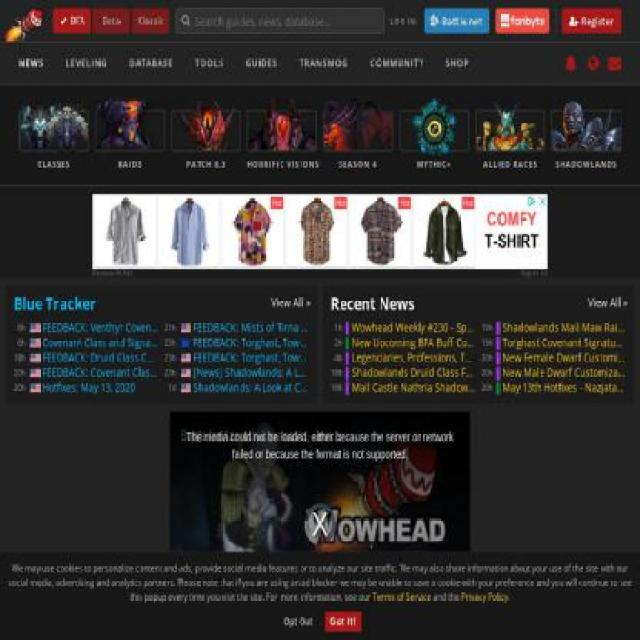button: (92, 194, 548, 269), (94, 109, 166, 177), (170, 109, 242, 177), (474, 109, 546, 177), (550, 109, 622, 177), (19, 109, 90, 177), (246, 109, 317, 177), (323, 109, 394, 177), (398, 109, 469, 177), (358, 42, 436, 84), (287, 42, 361, 84), (117, 42, 186, 84), (53, 42, 121, 84), (233, 42, 290, 84), (182, 42, 236, 84), (6, 42, 57, 84), (434, 42, 481, 84), (180, 320, 309, 335), (180, 335, 309, 350), (180, 350, 309, 365), (180, 365, 309, 380), (180, 380, 309, 395), (30, 320, 158, 335), (30, 335, 158, 350), (30, 350, 158, 365), (30, 365, 158, 380), (30, 380, 158, 395), (502, 320, 626, 335), (502, 335, 626, 350), (502, 350, 626, 365), (502, 365, 626, 380), (502, 380, 626, 395), (352, 320, 474, 335), (352, 335, 474, 350), (352, 350, 474, 365), (352, 365, 474, 380), (352, 380, 474, 395), (424, 9, 490, 33), (562, 9, 622, 33), (390, 0, 418, 42), (92, 9, 131, 33), (132, 9, 170, 33), (53, 9, 90, 33), (278, 612, 317, 632), (324, 612, 362, 632), (271, 294, 311, 311), (588, 294, 628, 311), (564, 42, 578, 84), (608, 42, 622, 84), (588, 42, 600, 84), (92, 268, 138, 278), (512, 268, 548, 278)
field: (176, 9, 384, 33)
